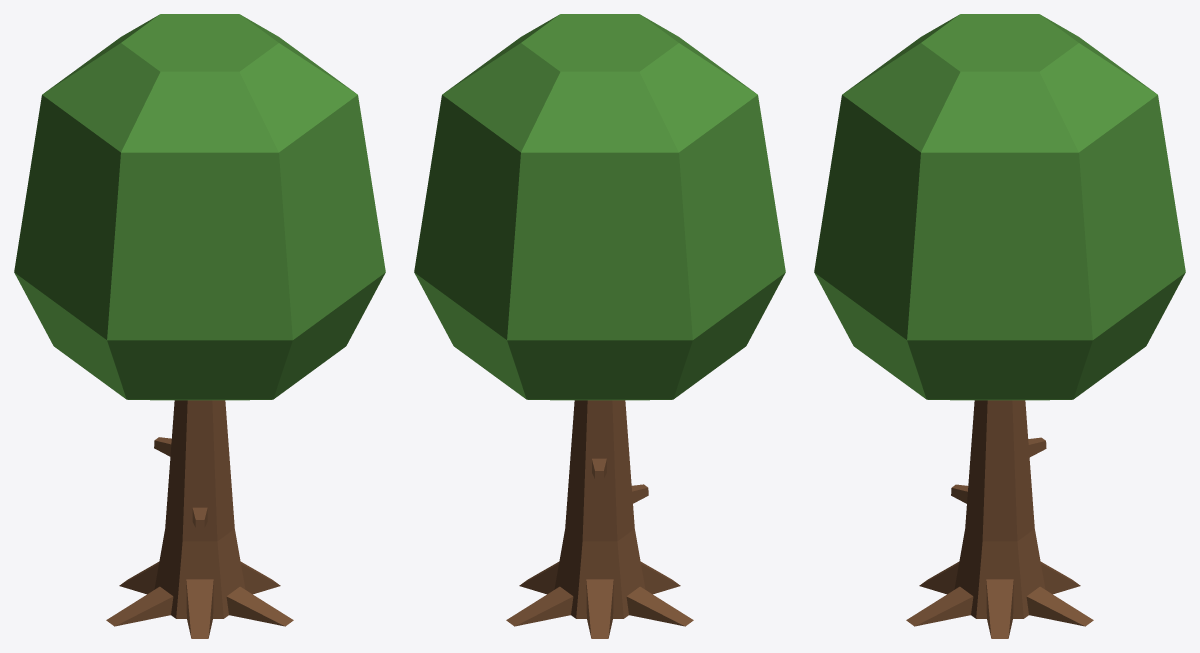
The model's file is oak.glb.
3 renders of one model, left to right at view 1: azimuth 30°, elevation 25°; view 2: azimuth 150°, elevation 25°; view 3: azimuth 270°, elevation 25°, orthographic.
Visible parts, largest first — view 1: tree_oak; view 2: tree_oak; view 3: tree_oak.
Part boxes in pixels (x1,y1,x2,y2): tree_oak: (14,14,385,638); tree_oak: (414,14,785,638); tree_oak: (814,14,1185,638).
Size of the model in its own units: 0.5224 by 1 by 0.6032.
